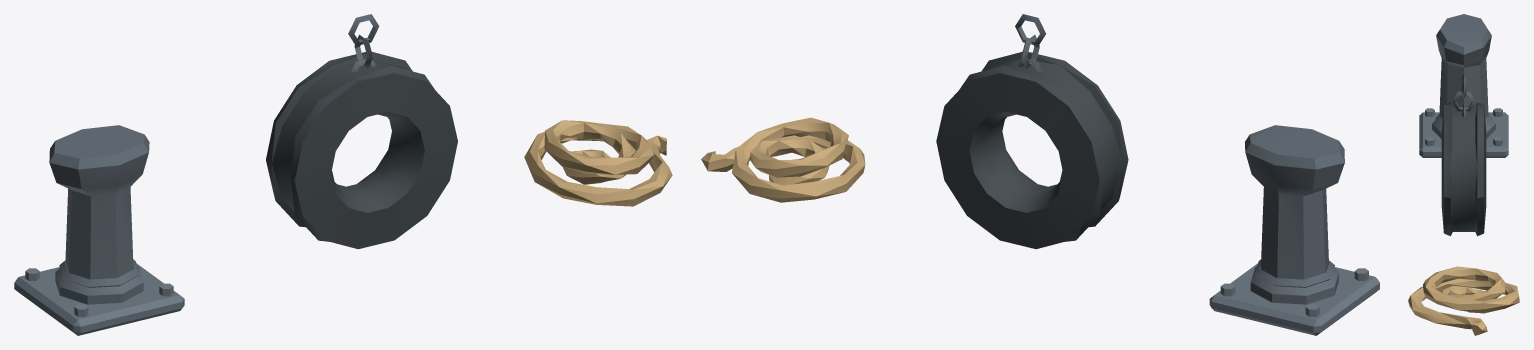
The model's file is QuaySet.glb.
3 views of the same model, side by side, from view 1: azimuth 30°, elevation 25°; view 2: azimuth 150°, elevation 25°; view 3: azimuth 270°, elevation 25° (orthographic). The views are drawn at different scales.
Parts seen in each view (by area): view 1: TyreFender_Rubber, Bollard_Charcoal, RopeCoil_Wood, TyreFender_Charcoal; view 2: TyreFender_Rubber, Bollard_Charcoal, RopeCoil_Wood, TyreFender_Charcoal; view 3: Bollard_Charcoal, TyreFender_Rubber, RopeCoil_Wood, TyreFender_Charcoal.
Part boxes in pixels (bbox=[...]): TyreFender_Rubber: bbox=[266, 52, 457, 249]; Bollard_Charcoal: bbox=[14, 125, 184, 335]; RopeCoil_Wood: bbox=[524, 120, 672, 206]; TyreFender_Charcoal: bbox=[348, 14, 379, 71]; TyreFender_Rubber: bbox=[936, 51, 1128, 249]; Bollard_Charcoal: bbox=[1209, 125, 1379, 335]; RopeCoil_Wood: bbox=[701, 117, 865, 202]; TyreFender_Charcoal: bbox=[1015, 14, 1045, 71]; Bollard_Charcoal: bbox=[1419, 14, 1508, 157]; TyreFender_Rubber: bbox=[1441, 102, 1486, 236]; RopeCoil_Wood: bbox=[1408, 266, 1519, 335]; TyreFender_Charcoal: bbox=[1451, 74, 1476, 116].
Size of the model in its own units: 9.15 by 3.04 by 2.
